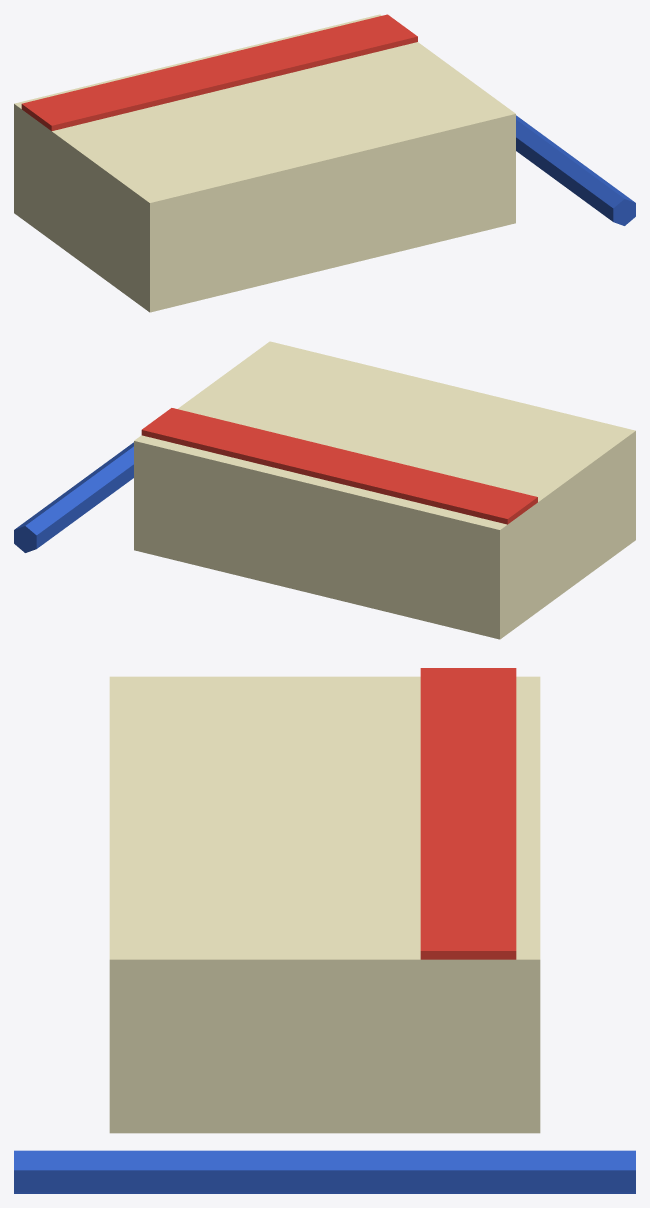
Rendered from super_coupon_pad.glb.
3 views of the same model, one above another, from view 1: azimuth 30°, elevation 25°; view 2: azimuth 150°, elevation 25°; view 3: azimuth 270°, elevation 25° (orthographic). The views are drawn at different scales.
Visible parts, largest first — view 1: pad_coupon_paper, stripe_coupon_stripe, pen_coupon_pen; view 2: pad_coupon_paper, stripe_coupon_stripe, pen_coupon_pen; view 3: pad_coupon_paper, stripe_coupon_stripe, pen_coupon_pen.
Part boxes in pixels (<box>): pad_coupon_paper: <box>14,14,515,312</box>; stripe_coupon_stripe: <box>21,14,417,130</box>; pen_coupon_pen: <box>516,115,635,225</box>; pad_coupon_paper: <box>134,341,635,639</box>; stripe_coupon_stripe: <box>141,408,537,524</box>; pen_coupon_pen: <box>14,442,133,552</box>; pad_coupon_paper: <box>109,676,540,1133</box>; stripe_coupon_stripe: <box>420,668,516,959</box>; pen_coupon_pen: <box>14,1150,635,1193</box>.
Size of the model in its own units: 0.1743 by 0.042 by 0.13.
